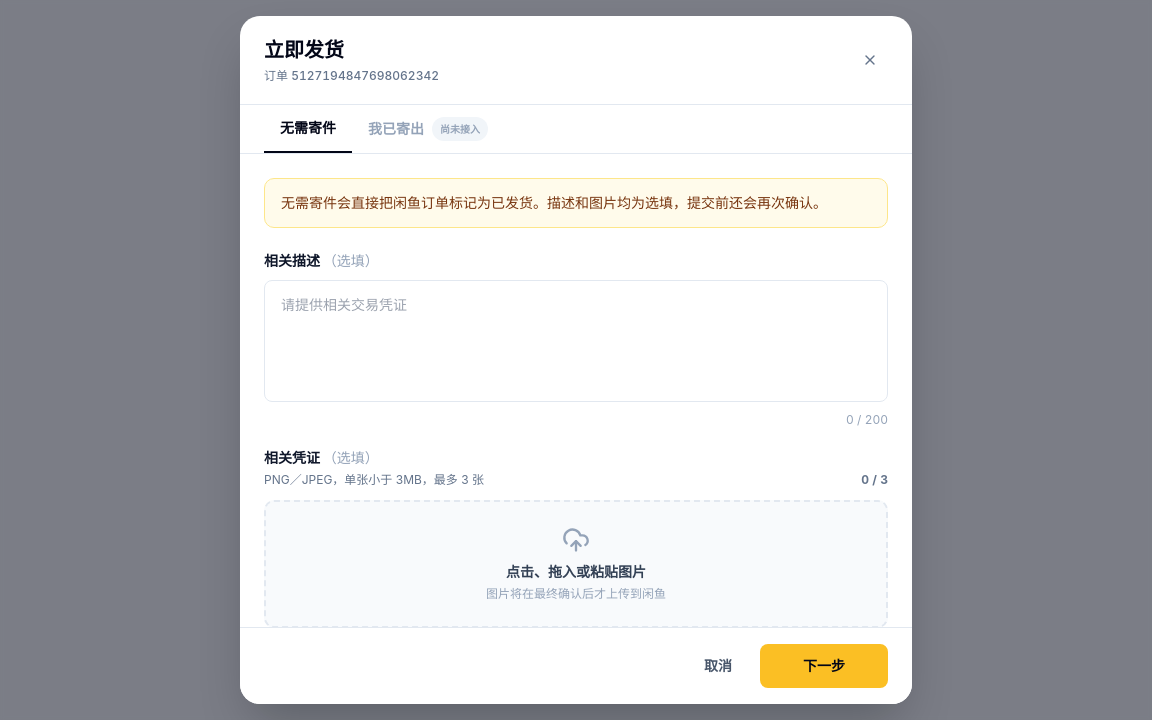
it: ShipOrderModal › 状态复核超时明确提示尚未执行发货
Click the button "下一步" at (824, 666), box [760, 644, 888, 688]
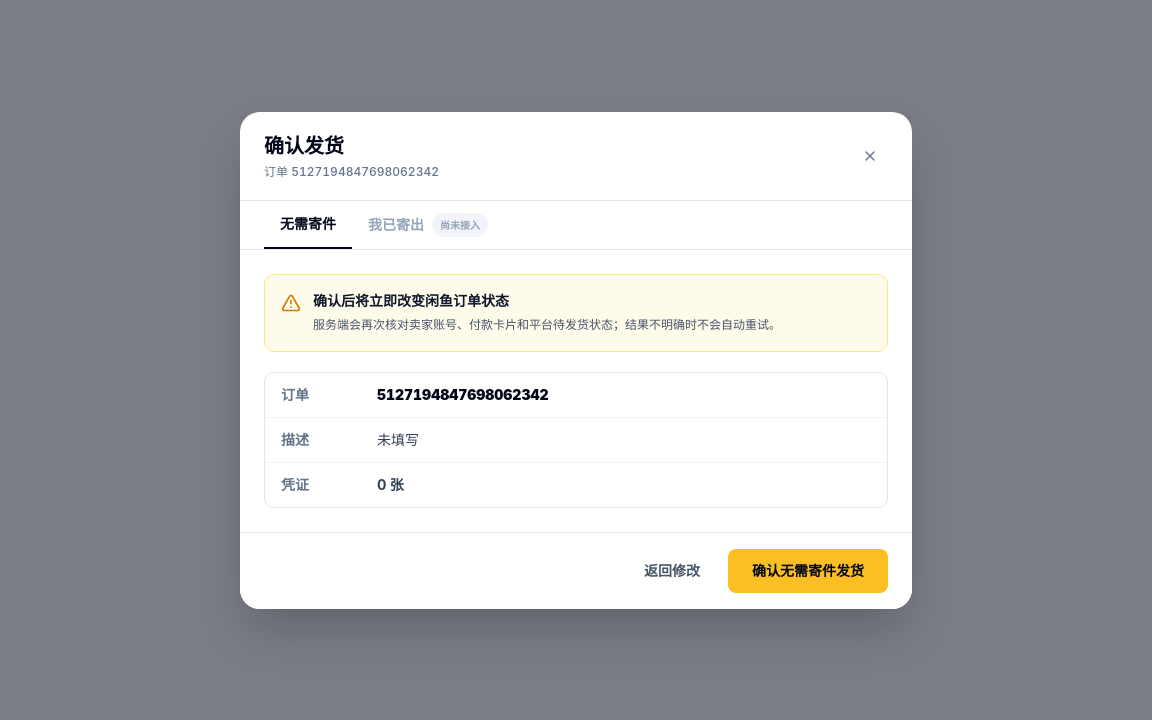
Click the button "确认无需寄件发货" at (808, 570), box [728, 548, 888, 592]
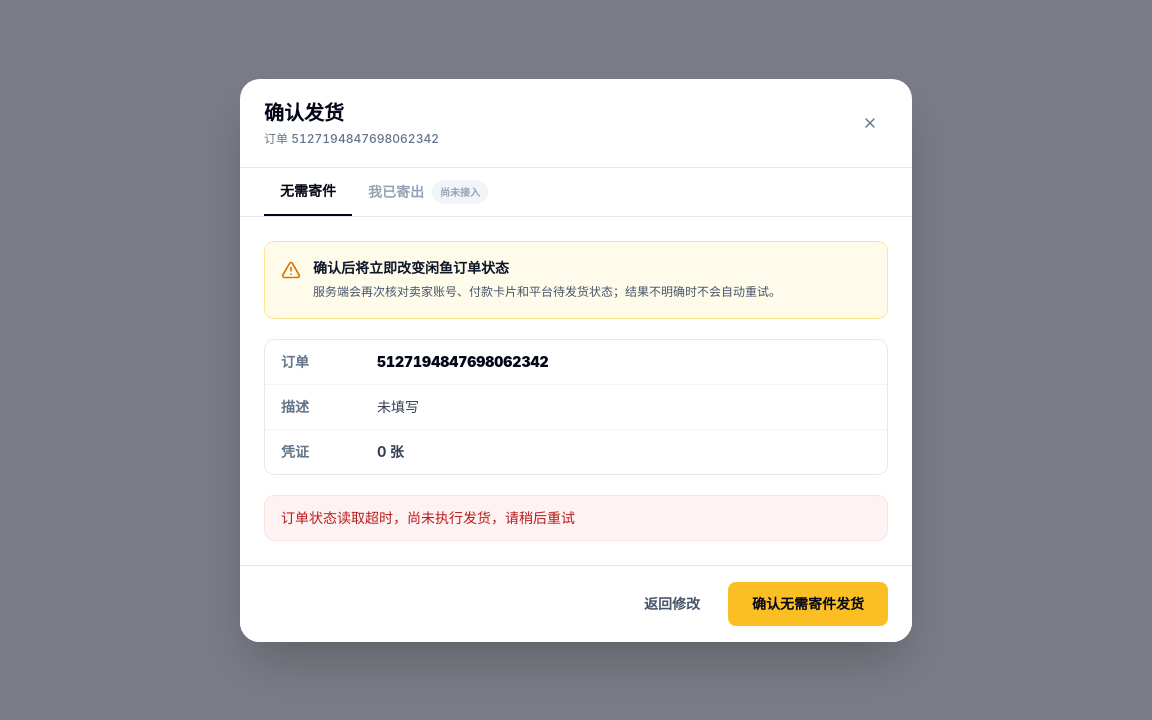
expect the message shows "尚未执行发货": met, box [281, 508, 575, 526]
